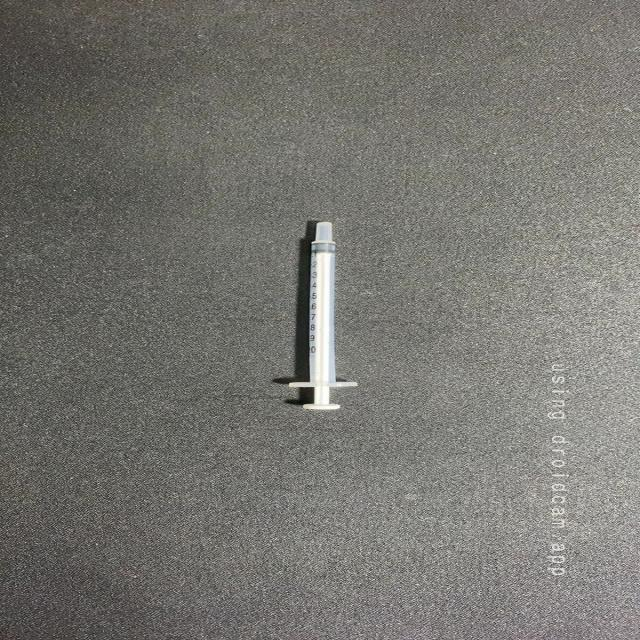syringe: (250, 209, 392, 425)
